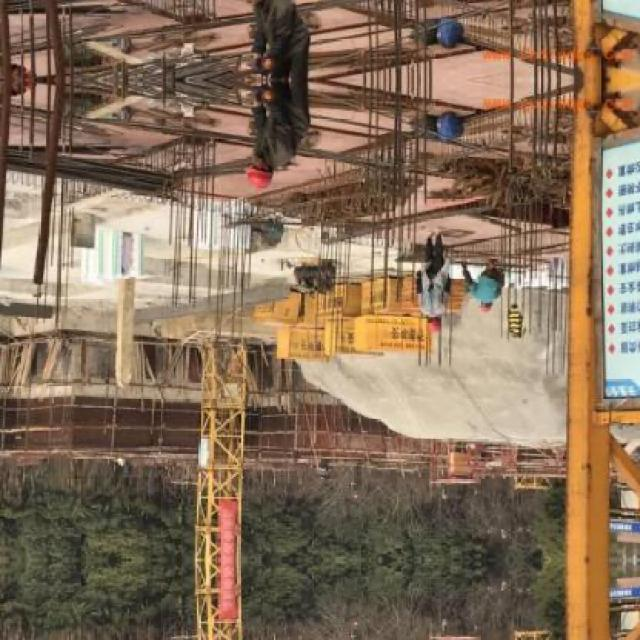con casco: (239, 132, 276, 216)
